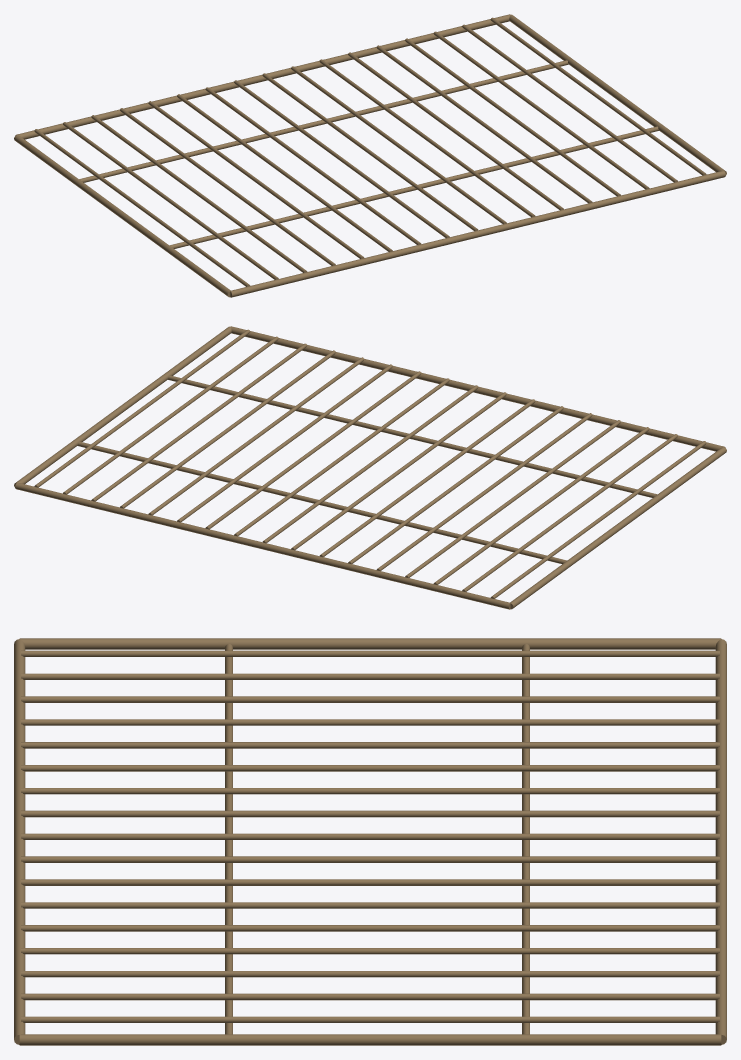
3 renders of one model, top to bottom at view 1: azimuth 30°, elevation 25°; view 2: azimuth 150°, elevation 25°; view 3: azimuth 270°, elevation 25°, orthographic. The views are drawn at different scales.
Visible parts, largest first — view 1: rack; view 2: rack; view 3: rack.
Boxes of the visible parts, bbox=[...] form: rack: bbox=[14, 14, 726, 297]; rack: bbox=[14, 326, 726, 609]; rack: bbox=[14, 638, 726, 1045].
Size of the model in its own units: 0.6315 by 0.00971 by 0.4751.
